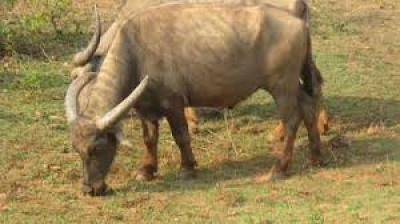buffalo: (64, 4, 330, 197)
